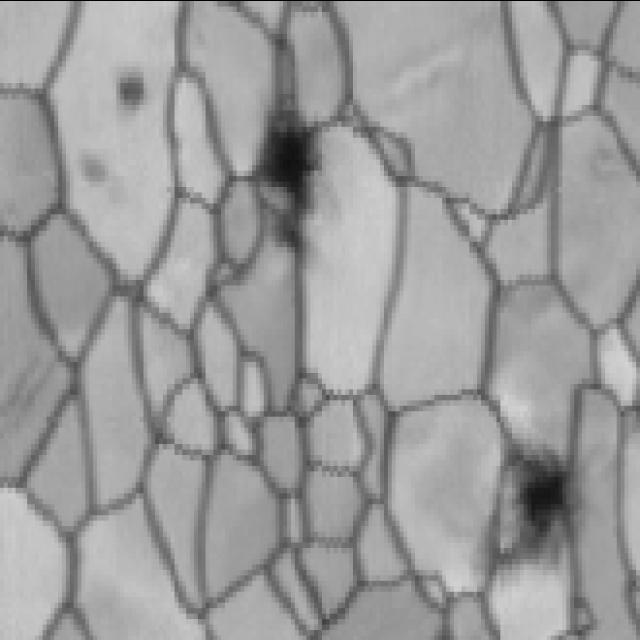good_void: (251, 101, 327, 264), (505, 439, 586, 563), (73, 138, 112, 194), (115, 69, 152, 113)
